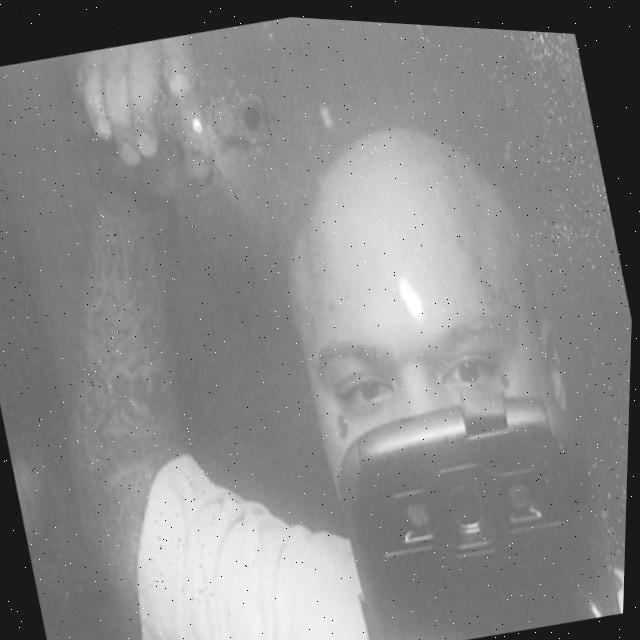pistol: (148, 68, 286, 175)
